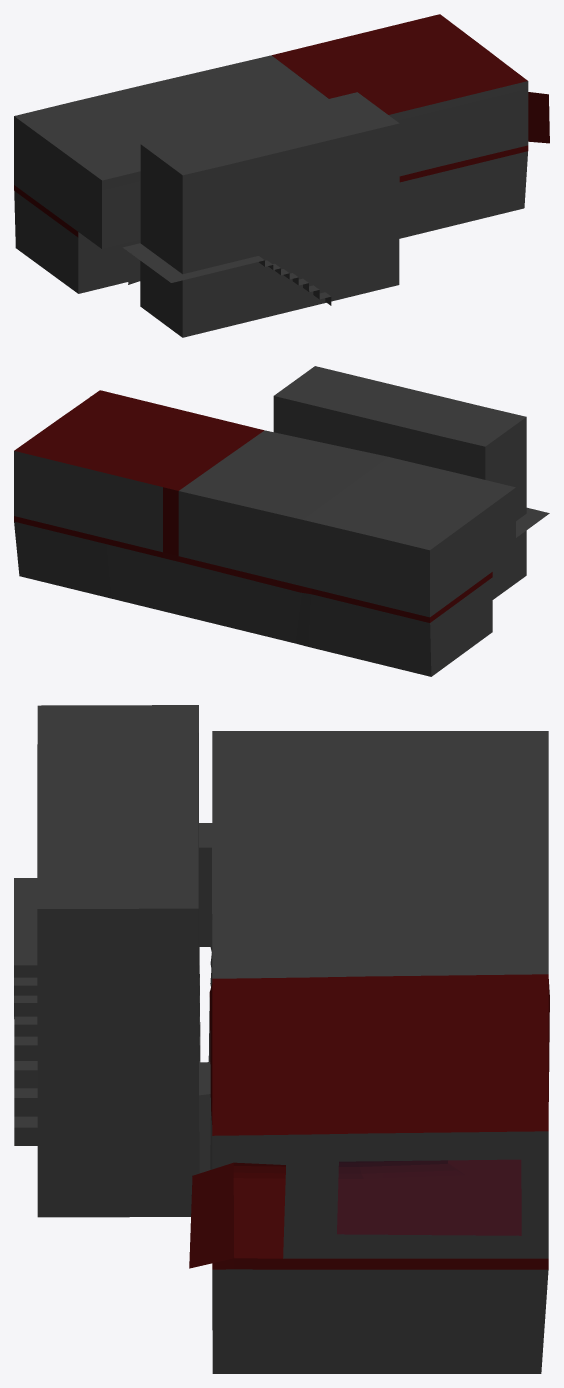
The model's file is map_layout2.fbx.
3 renders of one model, top to bottom at view 1: azimuth 30°, elevation 25°; view 2: azimuth 150°, elevation 25°; view 3: azimuth 270°, elevation 25°, orthographic. The views are drawn at different scales.
Parts seen in each view (by area): view 1: Plane, Plane.001; view 2: Plane, Plane.001; view 3: Plane, Plane.001.
Boxes of the visible parts, <box> form: Plane: <box>14,14,549,337</box>; Plane.001: <box>123,243,331,305</box>; Plane: <box>14,366,526,676</box>; Plane.001: <box>516,507,549,537</box>; Plane: <box>37,705,549,1373</box>; Plane.001: <box>14,878,200,1145</box>.
Size of the model in its own units: 2007 by 716 by 1105.
